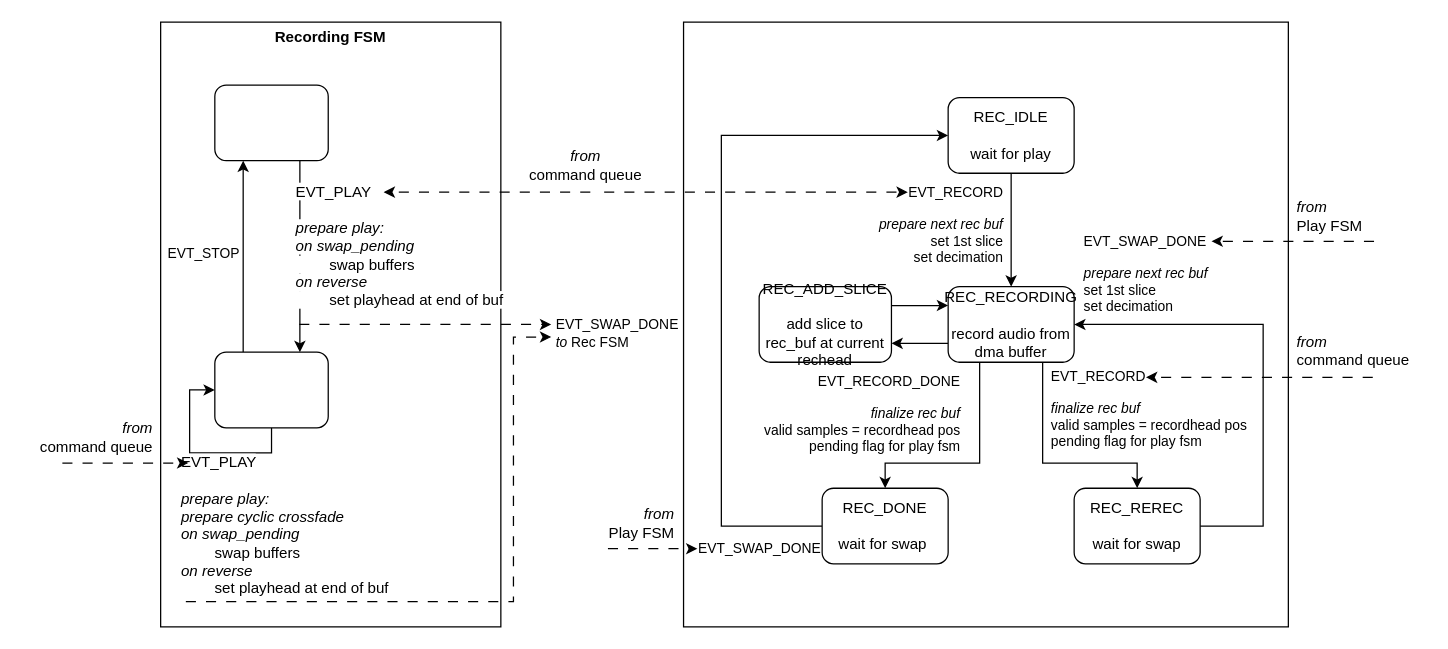
The diagram is 1448 pixels wide and 649 high, and some of its shapes have lost their labels. The centre of each missing label's shape, as x and y in pixels:
"PLAY_PLAYING" belongs at (271,389).
"PLAY_STOPPED" belongs at (271,122).
"Playback FSM" belongs at (985,324).
